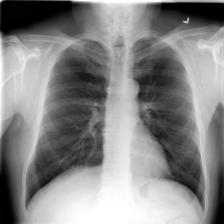normal: (19, 25, 210, 217)
